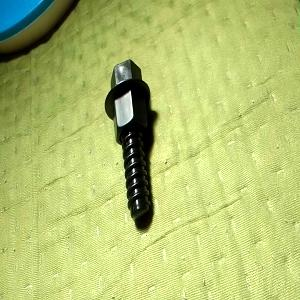parafuso: (104, 59, 150, 220)
